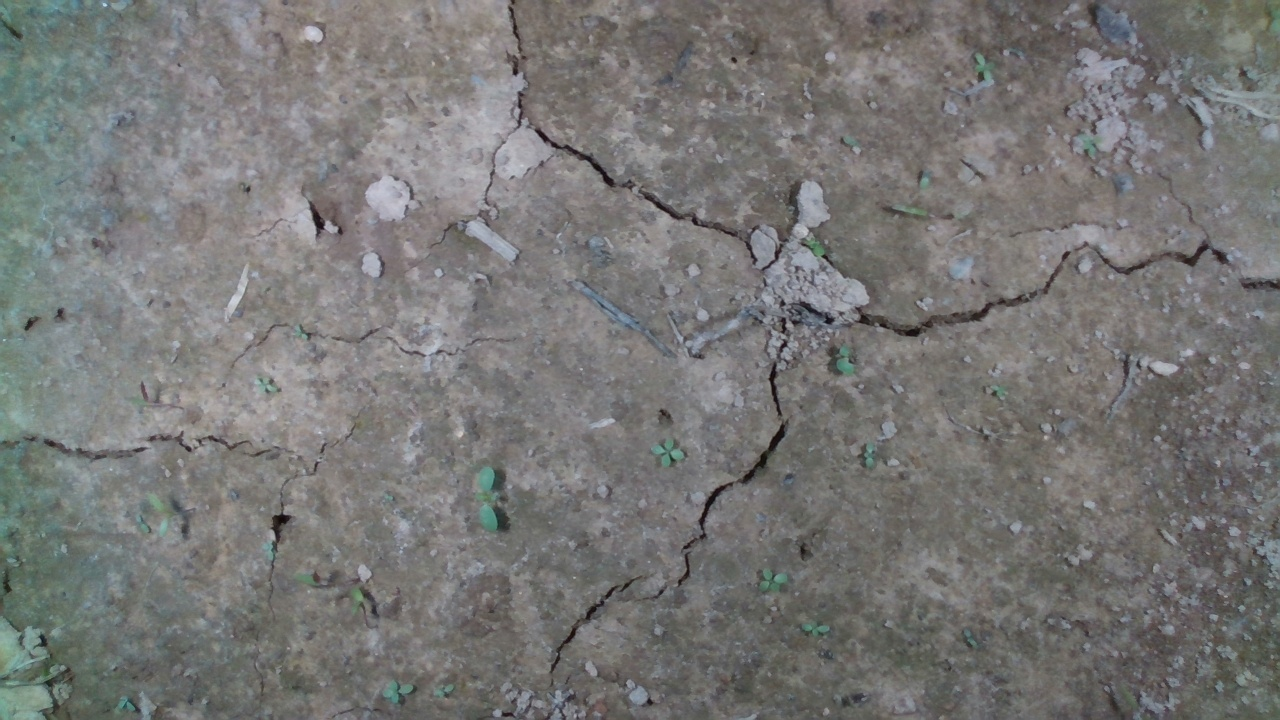weed: (471, 465, 500, 533), (145, 493, 174, 538), (648, 437, 687, 469), (756, 568, 791, 596), (972, 51, 994, 83), (835, 344, 857, 375), (802, 619, 830, 637), (252, 377, 279, 395), (861, 442, 878, 469)
